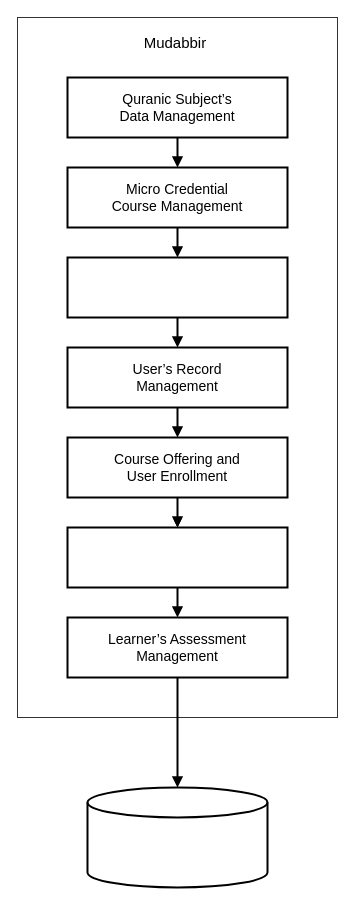
The diagram is 355 pixels wide and 906 high, and some of its shapes have lost their labels. Here are the shapes that lost their labels. From the top down, the centre of each, then its label:
[177,287]: Content Curation using AI Features
[177,557]: Course Progress Management
[177,837]: Database
